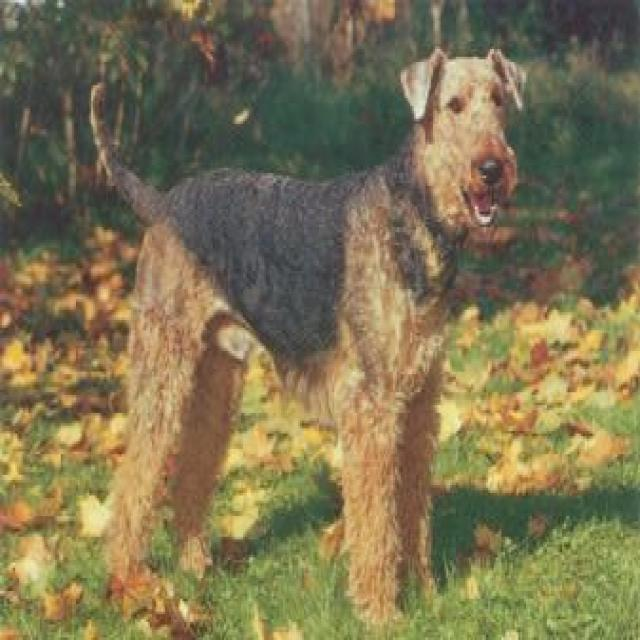airedale: (87, 44, 526, 630)
